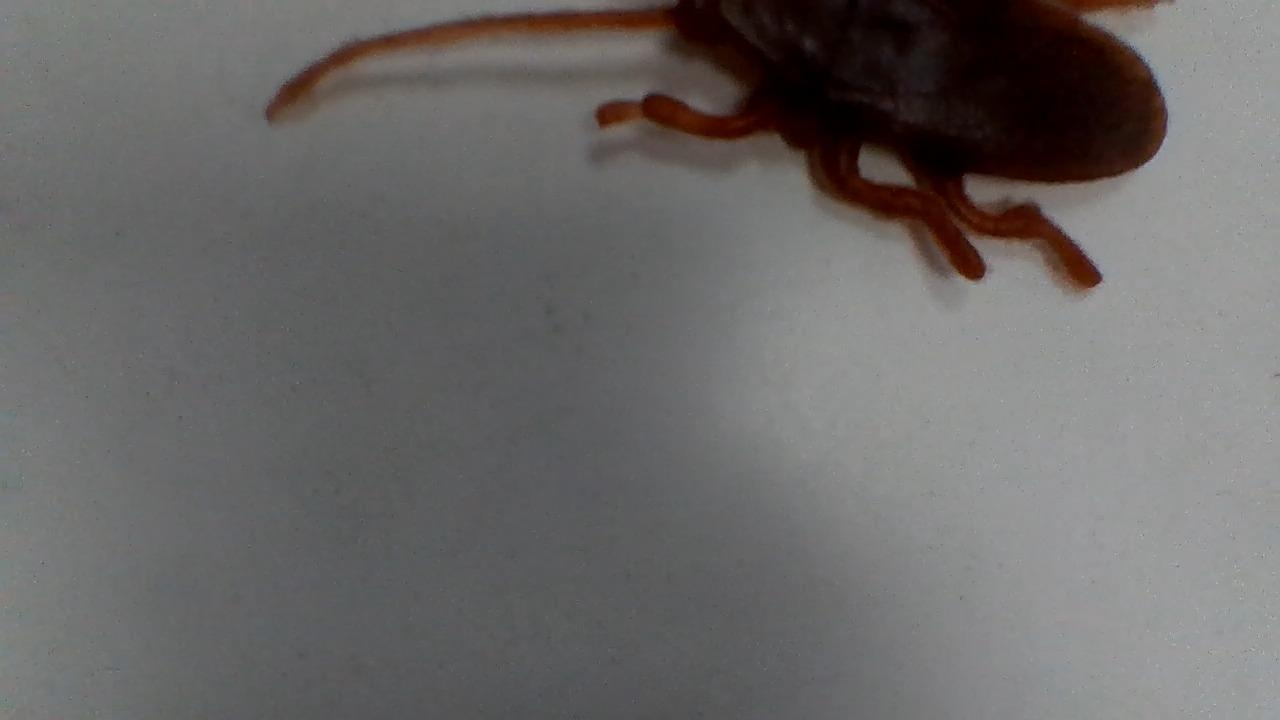cockroach: (257, 0, 1172, 289)
